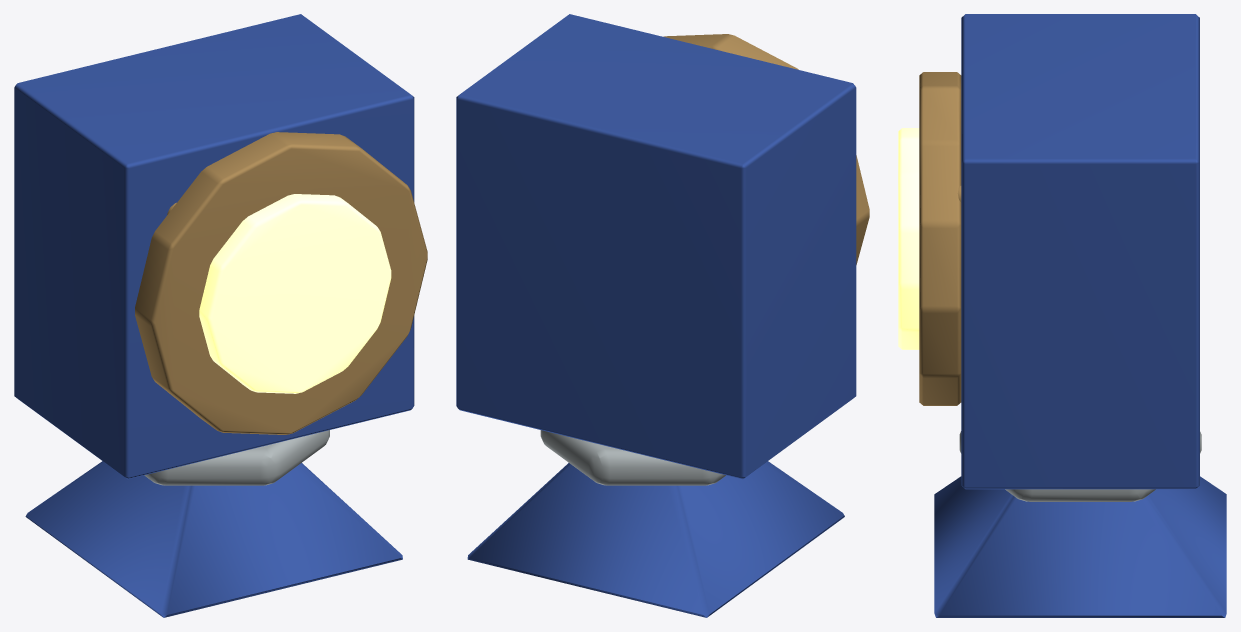
File: errant_core_pledge.glb
3 views of the same model, side by side, from view 1: azimuth 30°, elevation 25°; view 2: azimuth 150°, elevation 25°; view 3: azimuth 270°, elevation 25° (orthographic). The views are drawn at different scales.
Visible parts, largest first — view 1: errant_core_pledge; view 2: errant_core_pledge; view 3: errant_core_pledge.
Part boxes in pixels (box(x1,y1,x2,y2)): errant_core_pledge: box(14, 14, 427, 617); errant_core_pledge: box(456, 14, 869, 617); errant_core_pledge: box(898, 14, 1226, 617).
Bounding box in the file's own units: 0.5 × 0.74 × 0.4683.
Materials: 1 (1 with a texture image).
